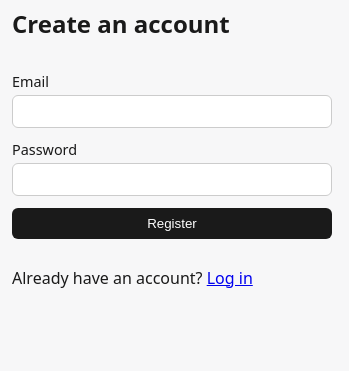
Test: Register › shows the server error message on a duplicate email
The width and height of the screenshot is (349, 371).
Type "shopper@example.com" into the field labelled "Email" at (172,111), box [12,95,332,128]
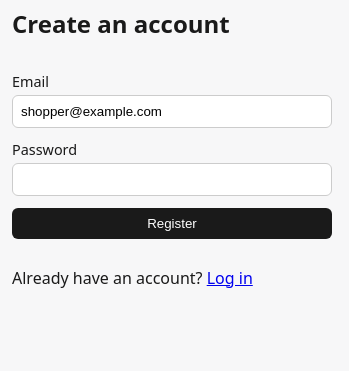
Type "password123" into the password field labelled "Password" at (172,179), box [12,163,332,196]
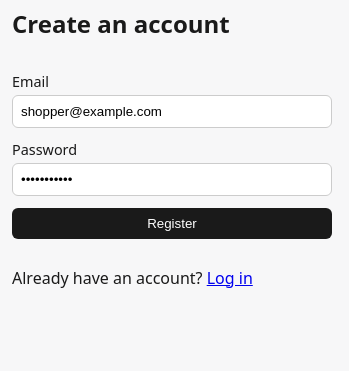
Click the button "Register" at (172,223), box [12,208,332,239]
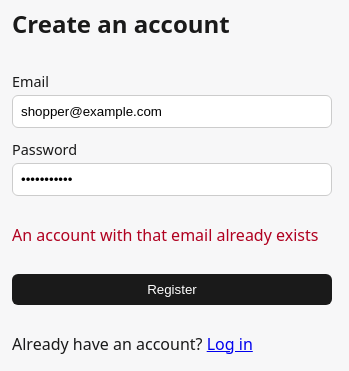
Expected: the text "An account with that email already exists" is shown, [12,224,332,246]
